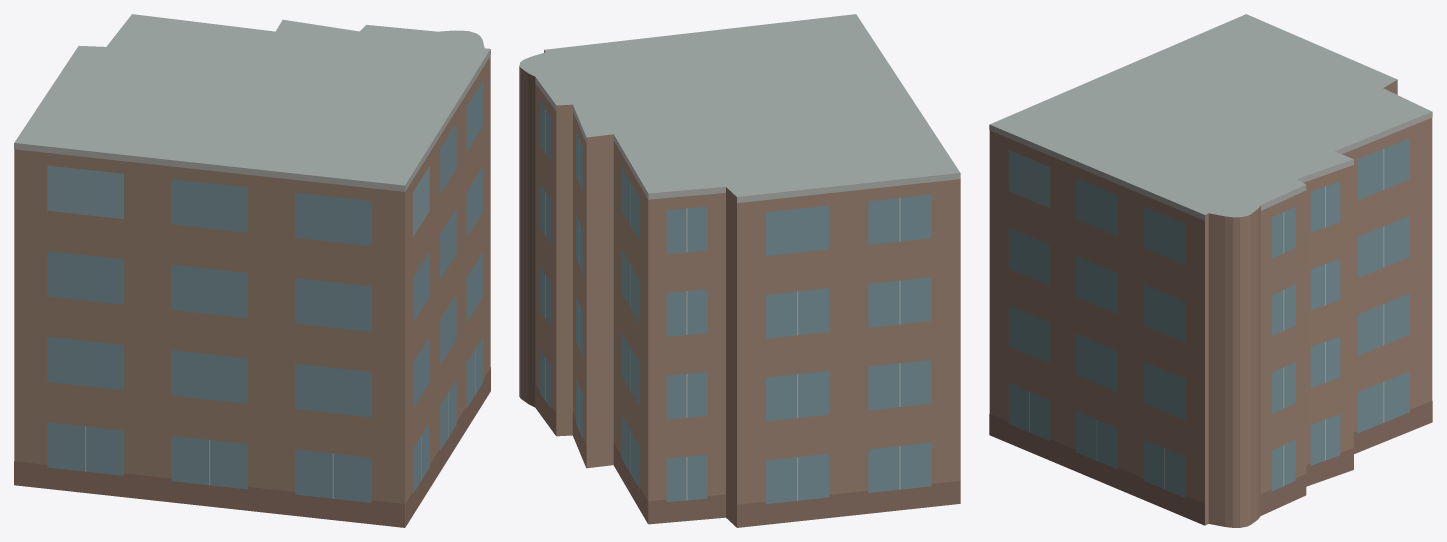
File: survey-upis-32885053.glb
3 views of the same model, side by side, from view 1: azimuth 30°, elevation 25°; view 2: azimuth 150°, elevation 25°; view 3: azimuth 270°, elevation 25° (orthographic). The views are drawn at different scales.
Visible parts, largest first — view 1: survey-upis-32885053.tmp; view 2: survey-upis-32885053.tmp; view 3: survey-upis-32885053.tmp.
Part boxes in pixels (box(x1,y1,x2,y2)): survey-upis-32885053.tmp: box(14, 14, 490, 527); survey-upis-32885053.tmp: box(519, 14, 960, 527); survey-upis-32885053.tmp: box(989, 14, 1432, 527).
Bounding box in the file's own units: 18.53 × 13.2 × 17.07.
